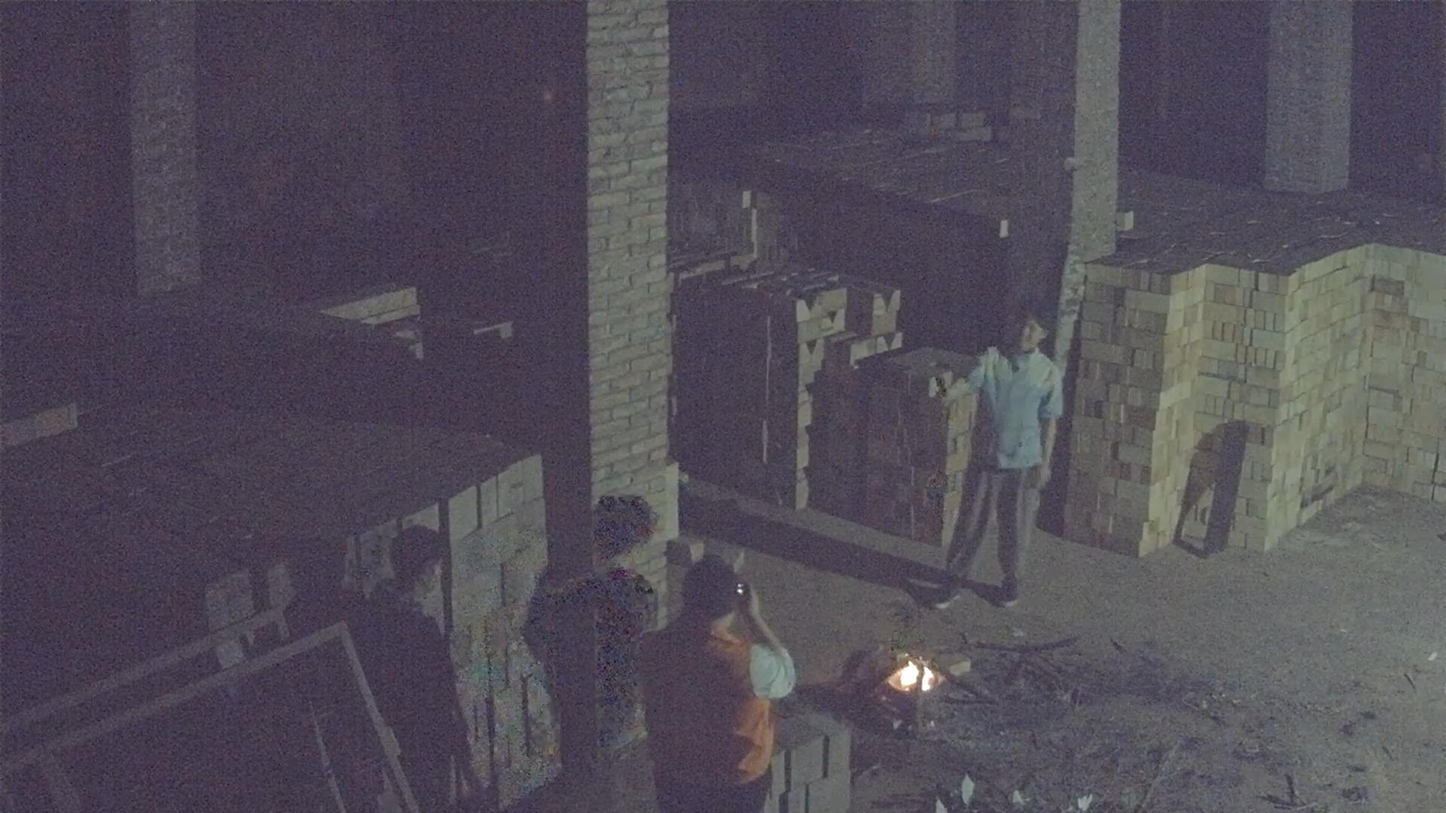fire: (886, 660, 943, 693)
